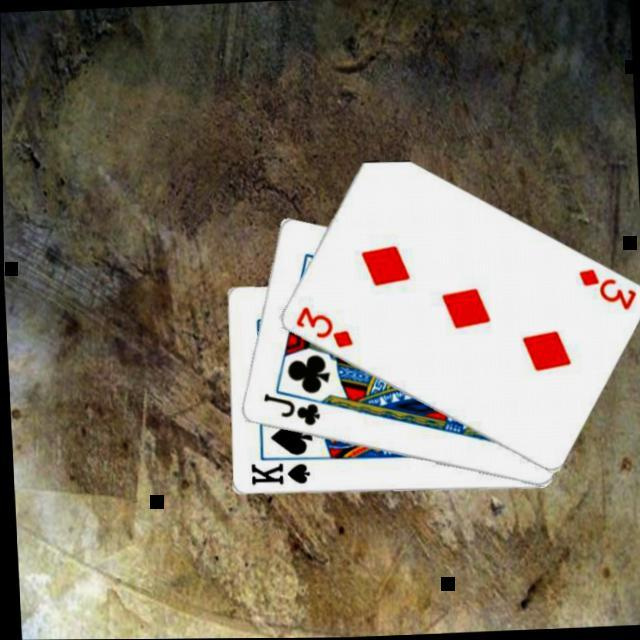3D: (289, 302, 356, 352), (574, 266, 640, 316)
JC: (258, 390, 322, 432)
KS: (245, 460, 312, 490)
